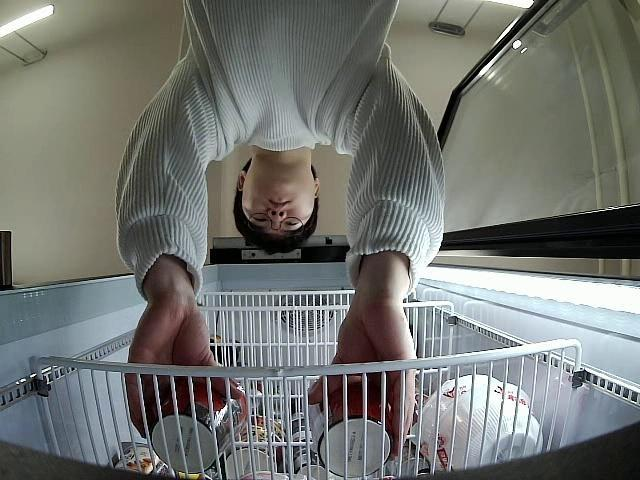02_shinRamen_S: (153, 370, 248, 472), (304, 380, 391, 479)
